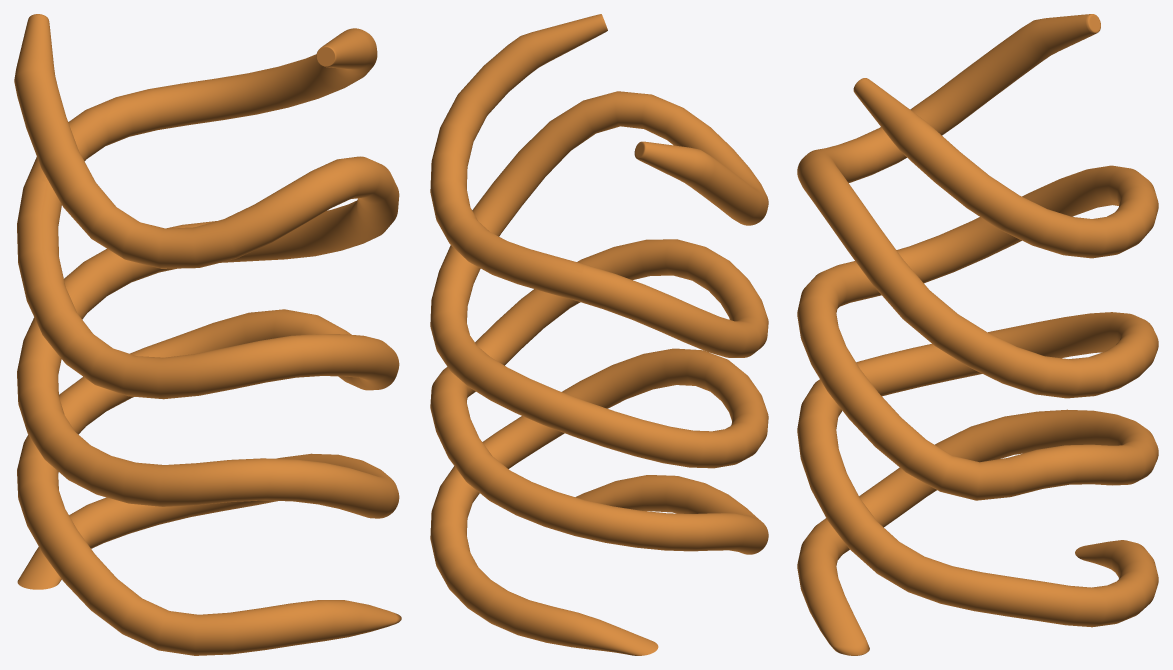
Rendered from Tendrils.fbx.
The picture shows the model from 3 angles, left to right: view 1: azimuth 30°, elevation 25°; view 2: azimuth 150°, elevation 25°; view 3: azimuth 270°, elevation 25°; orthographic projection. The views are drawn at different scales.
Visible parts, largest first — view 1: Tendrils; view 2: Tendrils; view 3: Tendrils.
Boxes of the visible parts, x1,y1,x2,y2 form: Tendrils: (14,14,401,655); Tendrils: (430,14,768,655); Tendrils: (797,14,1158,655).
Bounding box in the file's own units: 164 × 276 × 163.
